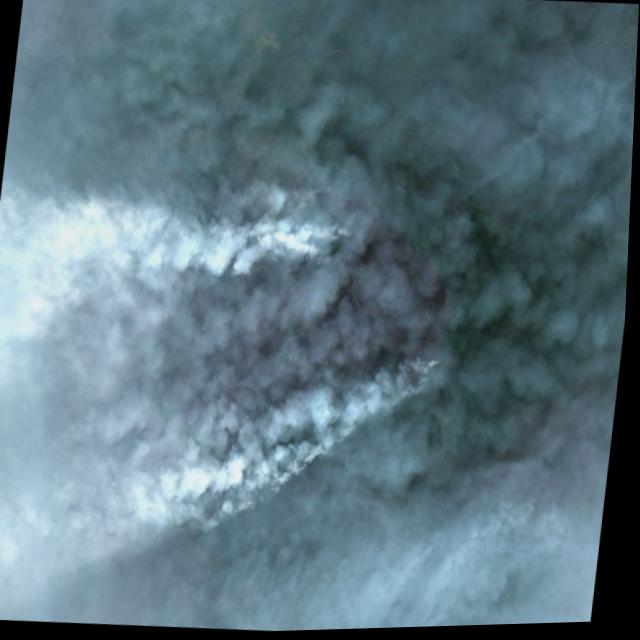fire: (107, 148, 397, 309), (235, 336, 446, 528)
